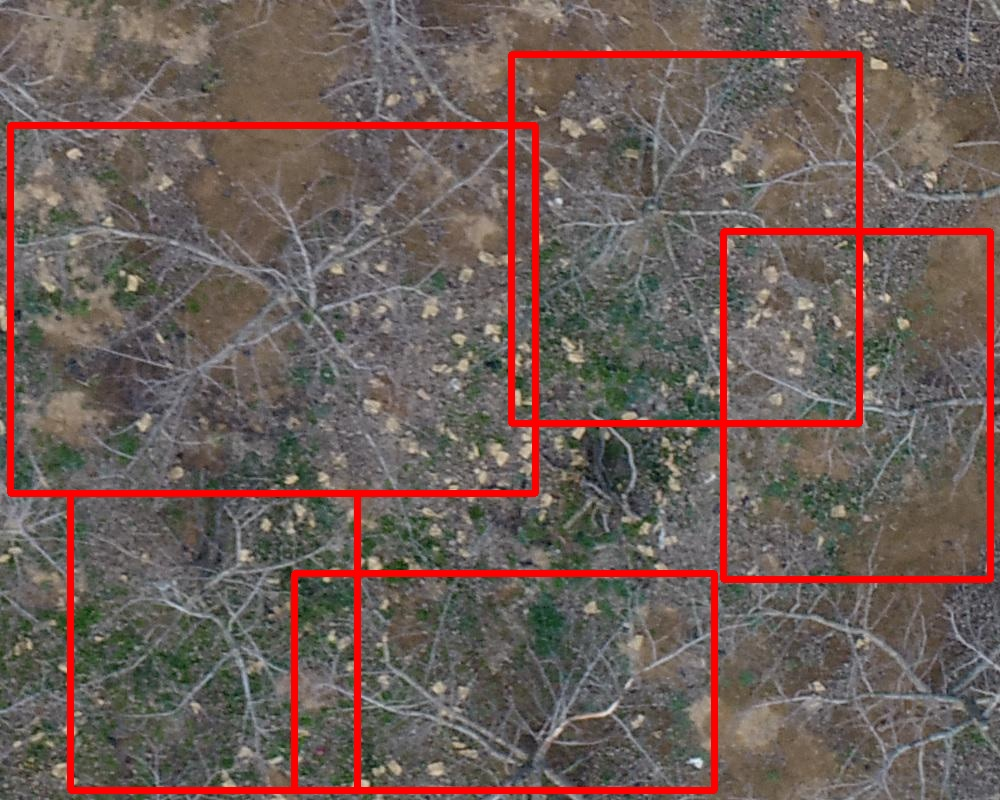apple: (10, 125, 535, 493), (511, 54, 859, 423), (723, 231, 990, 579), (294, 573, 714, 790), (70, 493, 357, 790)
